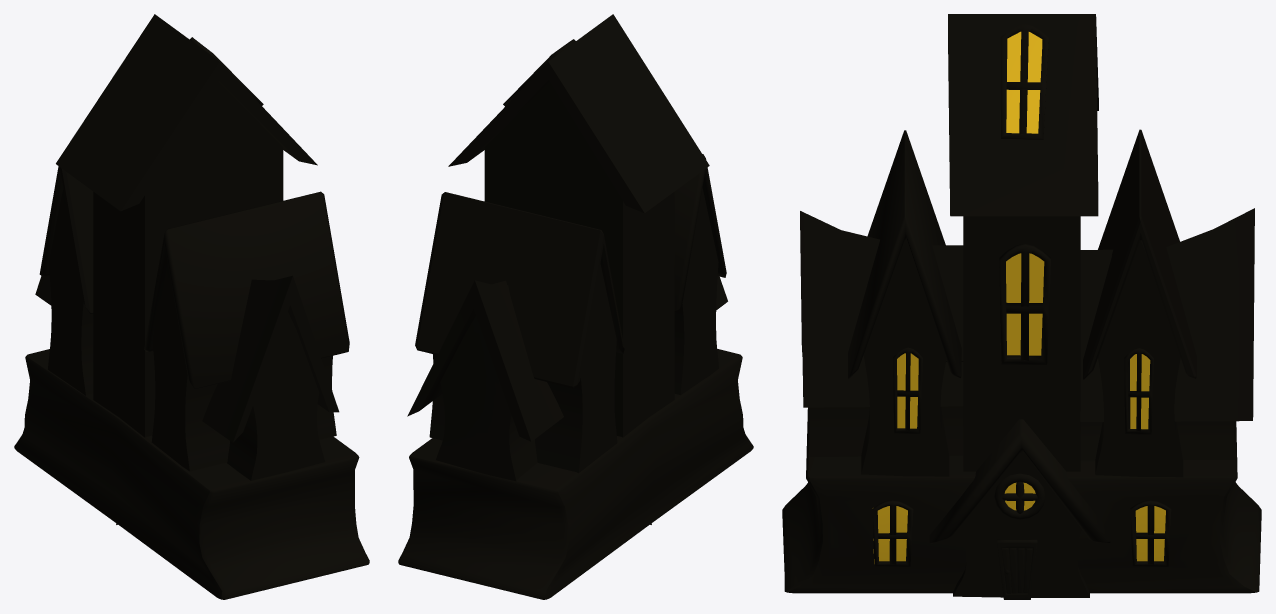
Rendered from CasaEmbrujada.fbx.
3 views of the same model, side by side, from view 1: azimuth 30°, elevation 25°; view 2: azimuth 150°, elevation 25°; view 3: azimuth 270°, elevation 25° (orthographic). The views are drawn at different scales.
Visible parts, largest first — view 1: Cube.003, Cube.004, Cube.012, Cube.005, Cube.013, Cube.011, Cube.014, Cube.006, Cube.007; view 2: Cube.003, Cube.004, Cube.007, Cube.005, Cube.009, Cube.006, Cube.010, Cube.011, Cube.012; view 3: Cube.003, Cube.005, Cube.004, Cube.010, Cube.011, Cube.006, Cube.014, Cube.012, Cube.007, Cube.001, Cube.013, Cube.002 (+9 smaller).
Part boxes in pixels (bbox=[...]): Cube.003: bbox=[14, 349, 369, 599]; Cube.004: bbox=[93, 81, 283, 437]; Cube.012: bbox=[144, 191, 349, 389]; Cube.005: bbox=[56, 14, 317, 211]; Cube.013: bbox=[227, 312, 325, 480]; Cube.011: bbox=[151, 263, 336, 471]; Cube.014: bbox=[202, 275, 339, 442]; Cube.006: bbox=[48, 189, 93, 395]; Cube.007: bbox=[39, 166, 93, 313]; Cube.003: bbox=[398, 348, 753, 599]; Cube.004: bbox=[484, 81, 674, 437]; Cube.007: bbox=[415, 192, 624, 388]; Cube.005: bbox=[448, 14, 709, 213]; Cube.009: bbox=[436, 285, 537, 481]; Cube.006: bbox=[429, 263, 617, 473]; Cube.010: bbox=[407, 280, 563, 441]; Cube.011: bbox=[674, 188, 718, 395]; Cube.012: bbox=[674, 154, 726, 312]; Cube.003: bbox=[782, 407, 1261, 593]; Cube.005: bbox=[948, 14, 1098, 216]; Cube.004: bbox=[963, 216, 1080, 471]; Cube.010: bbox=[1080, 208, 1254, 421]; Cube.011: bbox=[861, 239, 949, 476]; Cube.006: bbox=[1095, 240, 1183, 477]; Cube.014: bbox=[800, 211, 963, 407]; Cube.012: bbox=[848, 130, 961, 379]; Cube.007: bbox=[1083, 129, 1196, 379]; Cube.001: bbox=[953, 452, 1089, 597]; Cube.013: bbox=[808, 245, 963, 456]; Cube.002: bbox=[929, 419, 1111, 543].
Bounding box in the file's own units: 895 × 2018 × 1637.
